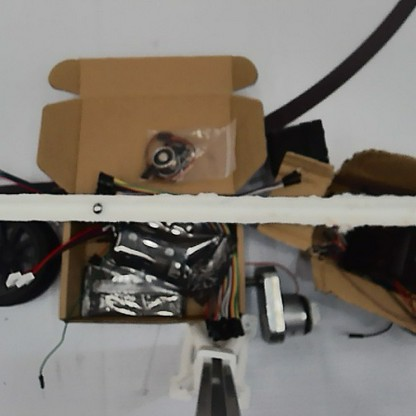ironball: (89, 198, 104, 215)
